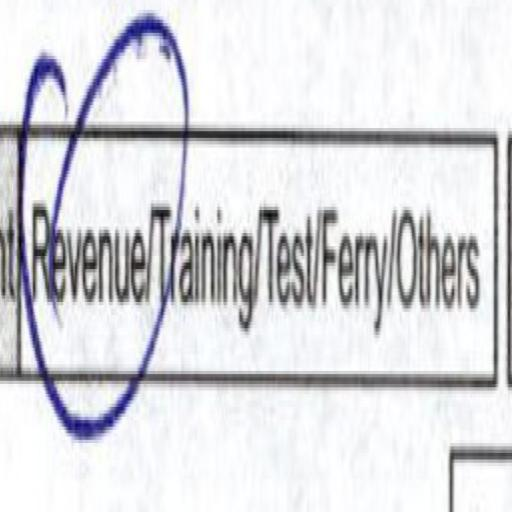check: (26, 47, 150, 416)
